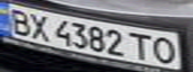2: (103, 26, 127, 57)
3: (66, 20, 90, 50)
4: (48, 17, 72, 46)
8: (84, 24, 106, 54)
B: (3, 7, 33, 36)
O: (148, 34, 181, 65)
T: (127, 30, 157, 61)
X: (24, 11, 54, 40)
